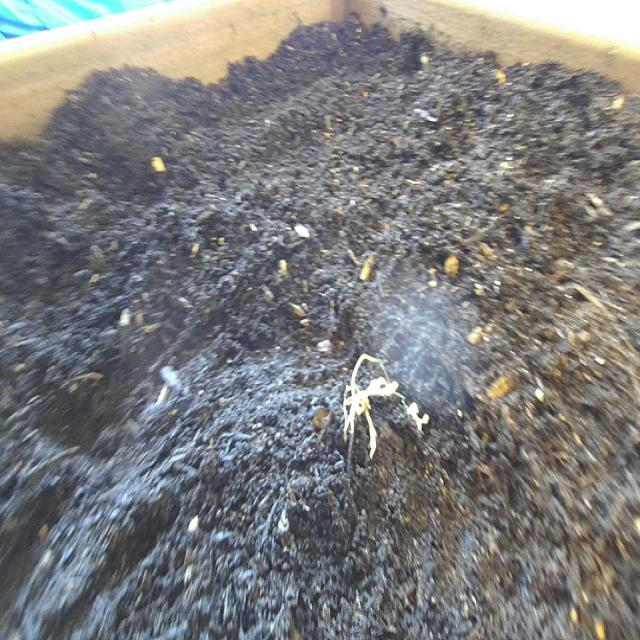Unhealthy: (333, 320, 438, 474)
